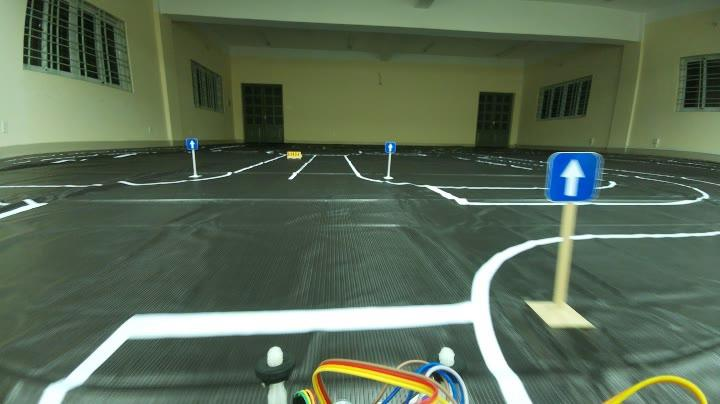onewayroad: (546, 152, 602, 206), (182, 136, 200, 150), (384, 141, 397, 153)
roadblock: (284, 149, 302, 161)
